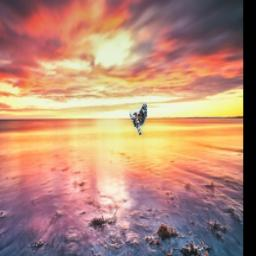Woodpecker: (129, 104, 147, 136)
